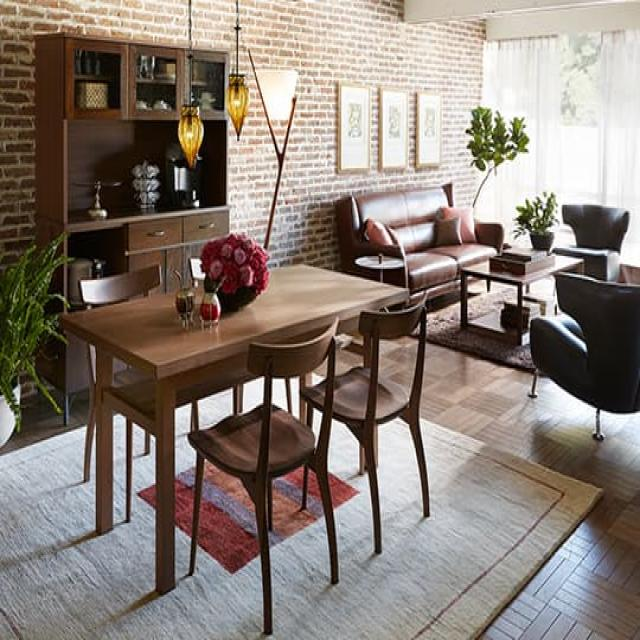vintage chair: (189, 312, 348, 636)
vintage sofa: (327, 184, 502, 306)
